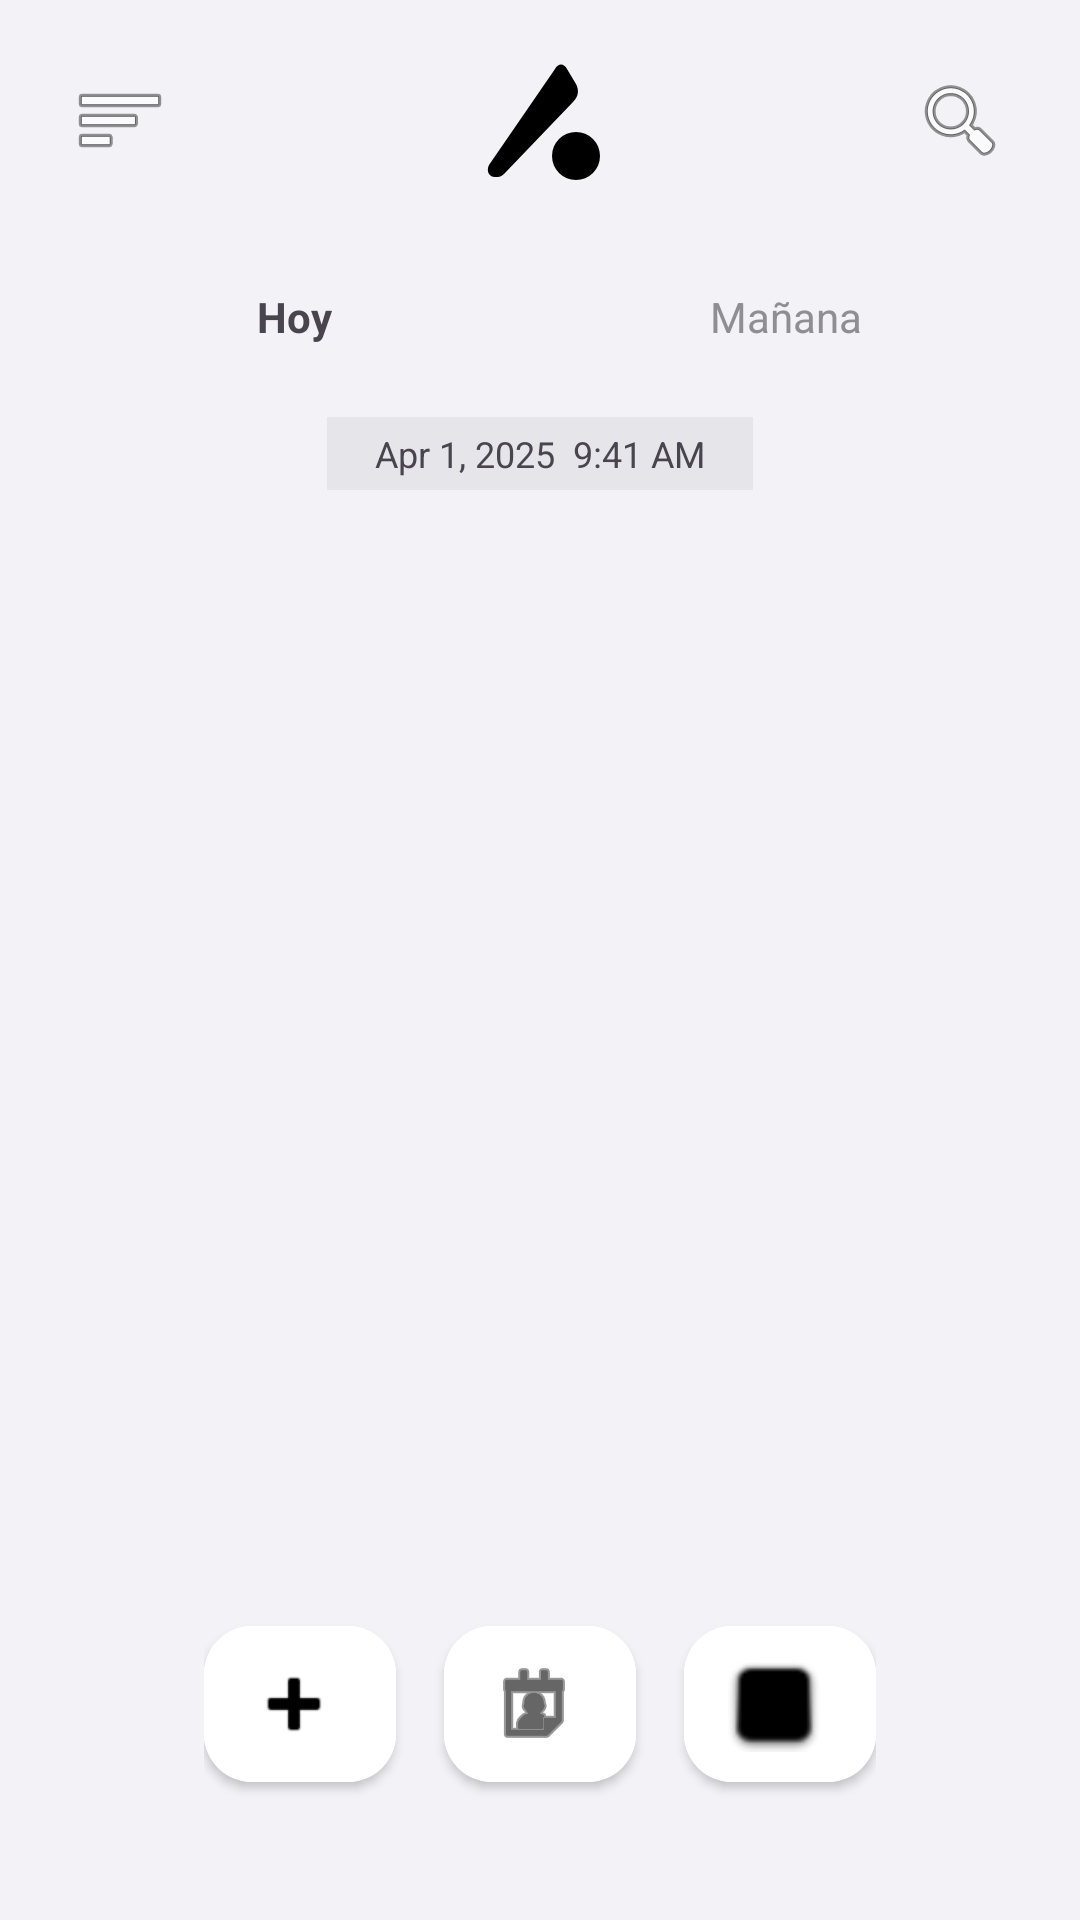

Screen size 1080px×1920px. Icon name, then its center in pixels as point (x, y):
add: point (300, 1709)
calendar: point (540, 1709)
search: point (960, 120)
sort by size: point (120, 120)
